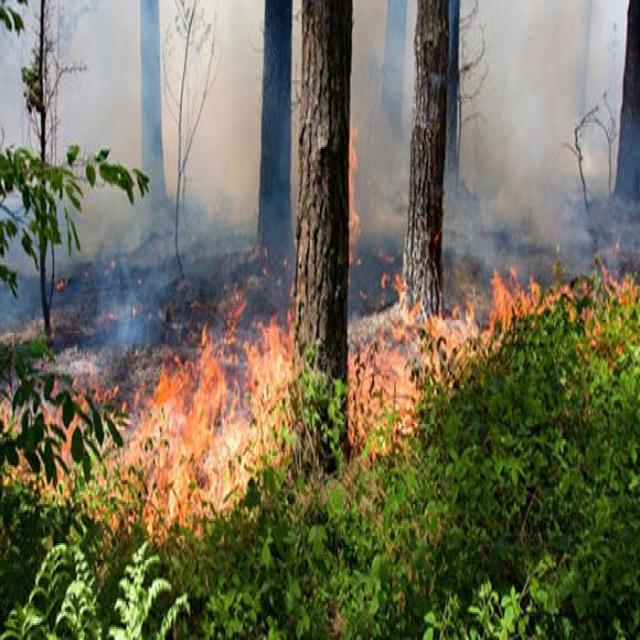fire: (71, 276, 577, 522)
